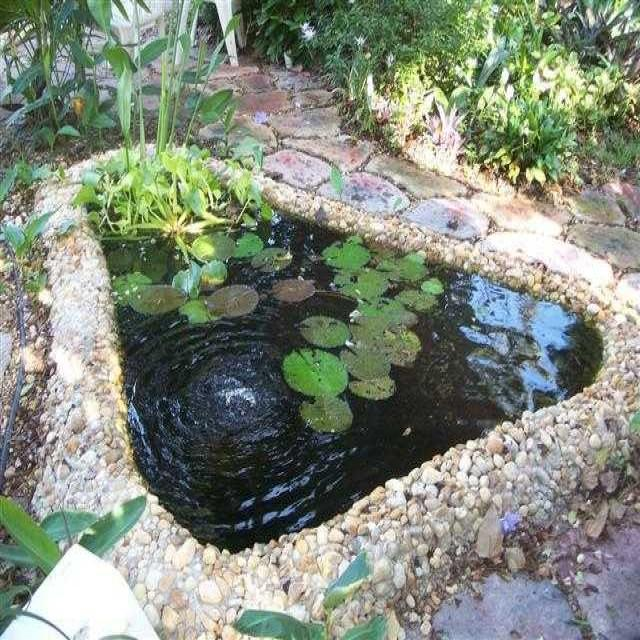Ponds: (33, 147, 640, 640)
